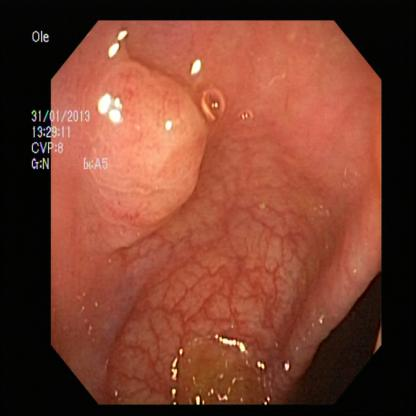Labels: (23, 94, 111, 184), (24, 16, 70, 61)
Polyps: (89, 62, 191, 225)
